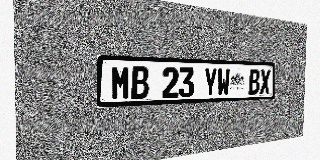2: (162, 67, 178, 98)
3: (179, 67, 194, 97)
B: (131, 66, 149, 99), (249, 69, 260, 95)
M: (111, 66, 130, 100)
W: (217, 68, 230, 96)
X: (260, 69, 270, 94)
Y: (204, 68, 217, 96)
